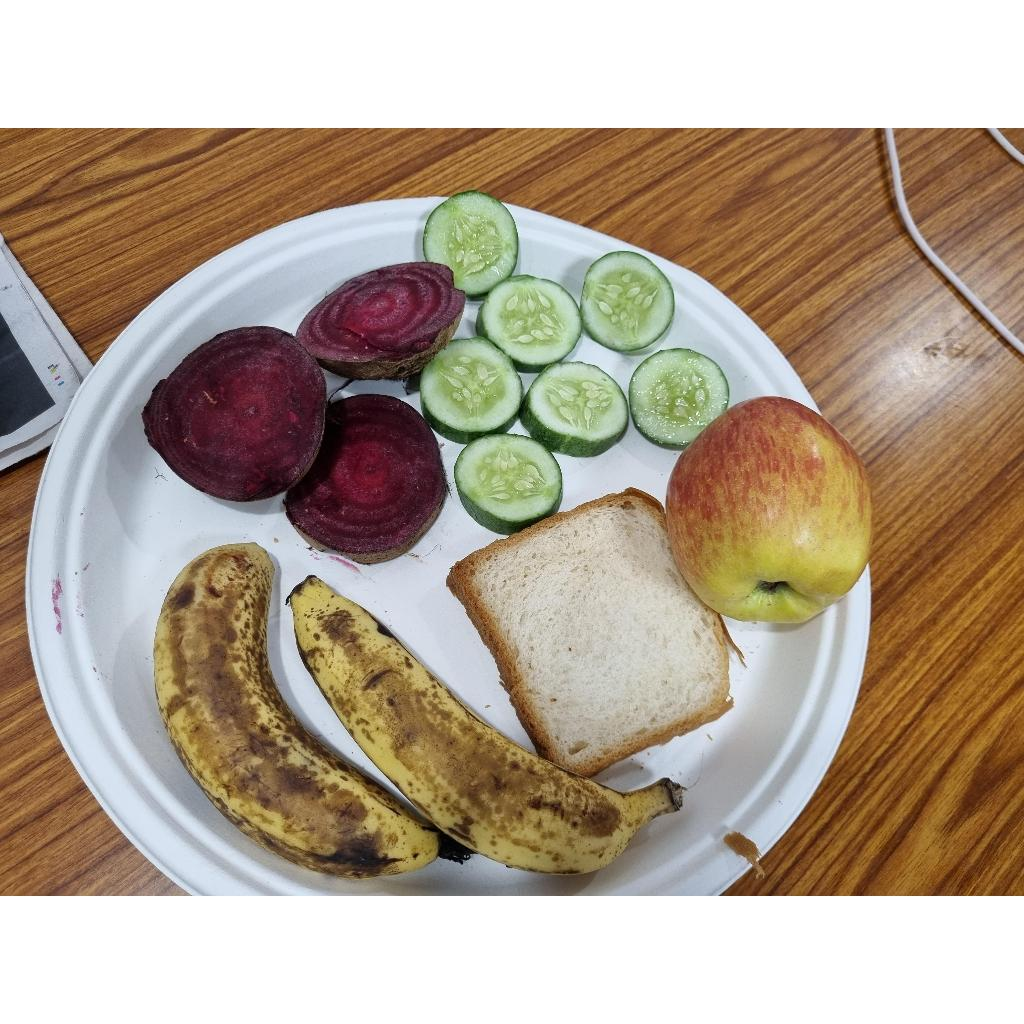apple: (659, 397, 875, 631)
banana: (284, 578, 678, 877), (151, 545, 449, 873)
cucumber: (451, 431, 567, 540), (417, 339, 530, 443), (581, 251, 677, 365), (519, 364, 631, 461), (422, 194, 520, 303), (631, 348, 733, 452), (476, 276, 583, 371)
